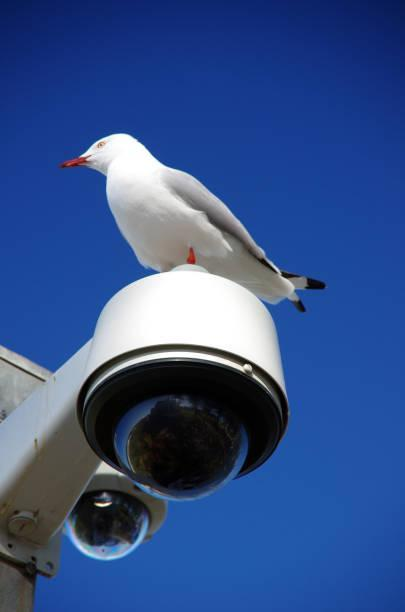camera: (70, 317, 307, 498), (55, 460, 163, 578)
